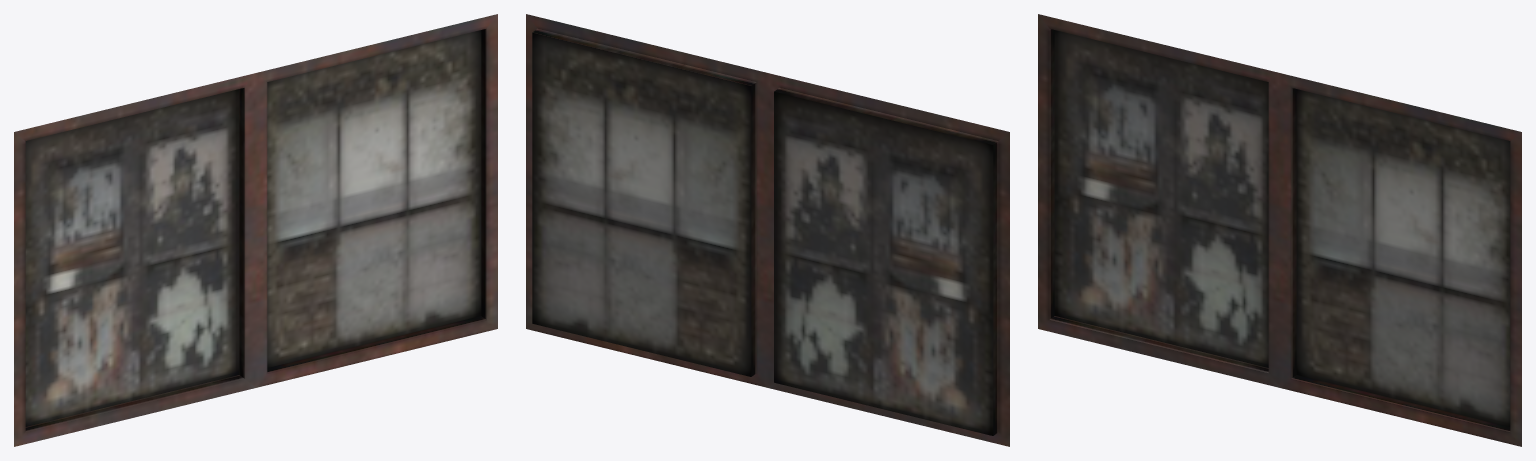
Rendered from D_Window_01.FBX.
3 renders of one model, left to right at view 1: azimuth 30°, elevation 25°; view 2: azimuth 150°, elevation 25°; view 3: azimuth 330°, elevation 25°, orthographic.
Visible parts, largest first — view 1: D_Window_01; view 2: D_Window_01; view 3: D_Window_01.
Part boxes in pixels (x1,y1,x2,y2): D_Window_01: (14, 14, 497, 446); D_Window_01: (526, 14, 1009, 446); D_Window_01: (1038, 14, 1521, 446).
Bounding box in the file's own units: 264 × 164 × 5.
